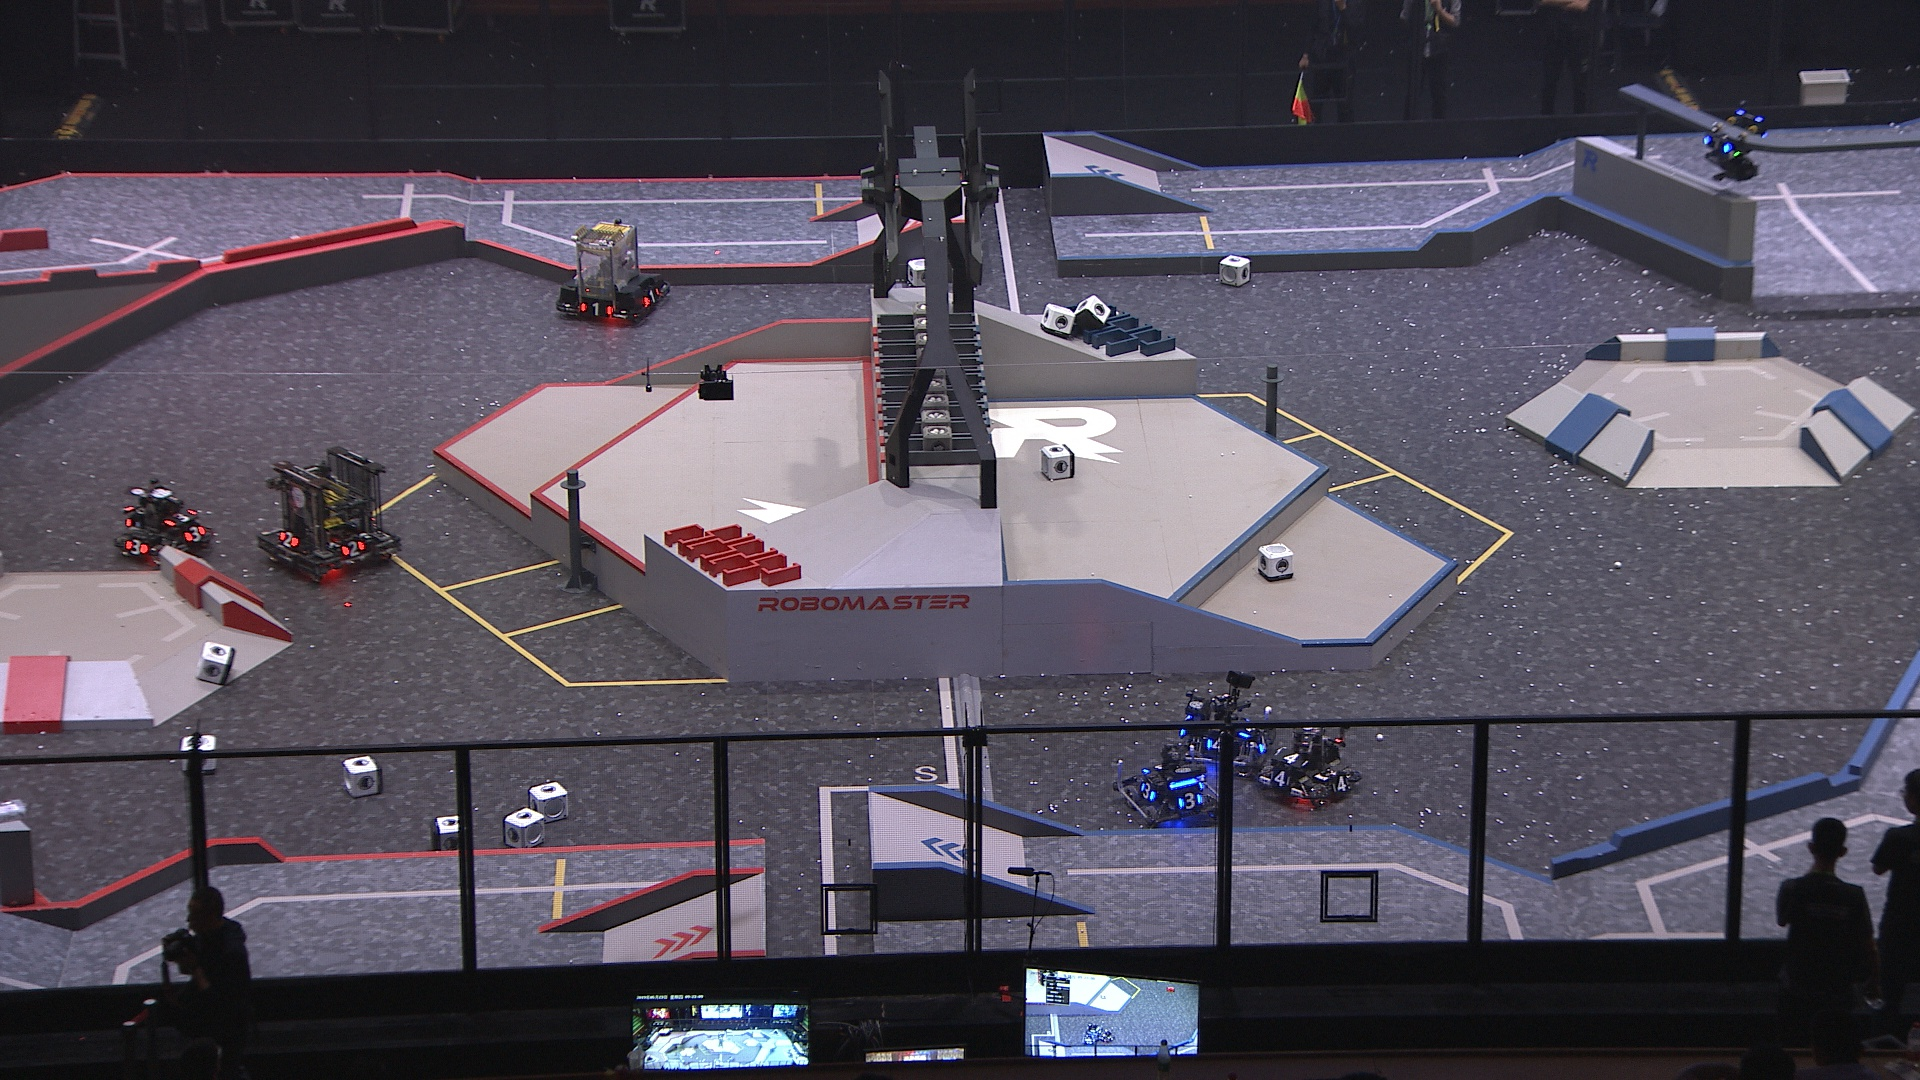armor: (1275, 746, 1309, 766), (1702, 135, 1731, 157), (580, 301, 613, 318), (1269, 770, 1296, 789), (167, 506, 193, 526), (121, 538, 148, 556), (642, 285, 662, 309), (1332, 774, 1352, 796), (1178, 793, 1205, 808), (183, 522, 206, 541), (342, 541, 367, 556), (278, 531, 299, 549), (1240, 719, 1262, 735), (1139, 781, 1156, 800), (1205, 735, 1224, 752), (1257, 733, 1269, 752)
car: (261, 447, 400, 584), (556, 218, 669, 323), (1116, 736, 1225, 837), (1176, 679, 1273, 771), (1261, 719, 1360, 806), (111, 484, 211, 560)
watcher: (1702, 102, 1775, 183)
